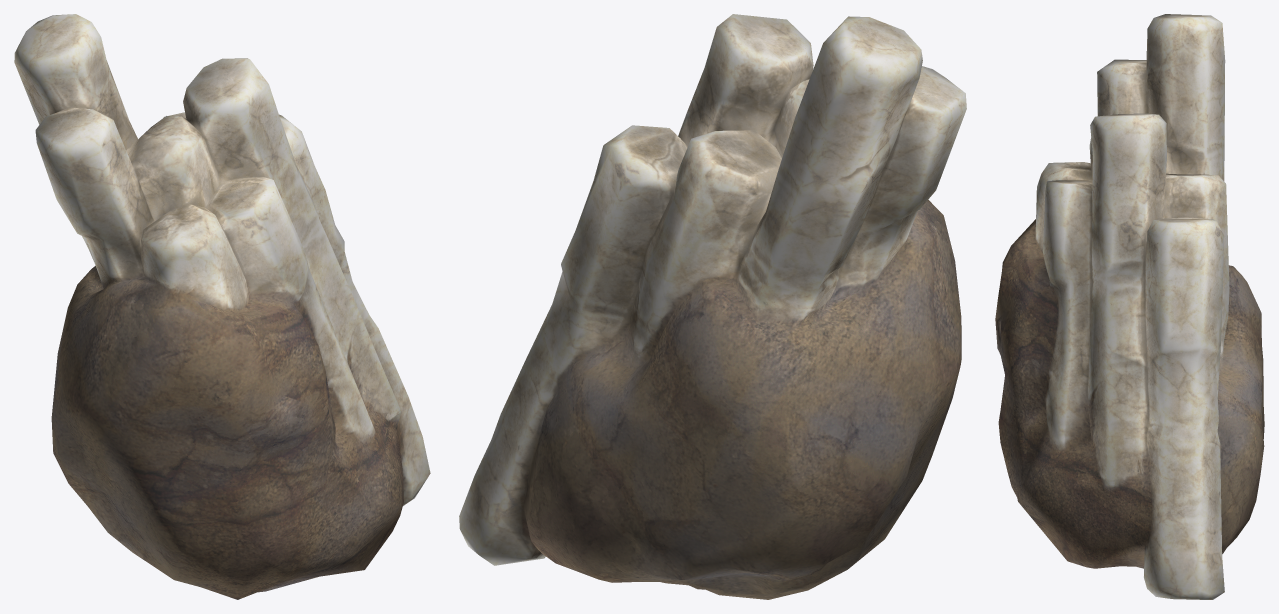
Rendered from SM_StoneNode_2.fbx.
3 views of the same model, side by side, from view 1: azimuth 30°, elevation 25°; view 2: azimuth 150°, elevation 25°; view 3: azimuth 270°, elevation 25° (orthographic). The views are drawn at different scales.
Visible parts, largest first — view 1: SM_StoneNode_2; view 2: SM_StoneNode_2; view 3: SM_StoneNode_2.
Boxes of the visible parts, left/top/right/bottom form: SM_StoneNode_2: left=14, top=14, right=430, bottom=599; SM_StoneNode_2: left=459, top=14, right=966, bottom=599; SM_StoneNode_2: left=995, top=14, right=1264, bottom=599.
Bounding box in the file's own units: 1.07 × 1.41 × 0.7309.
